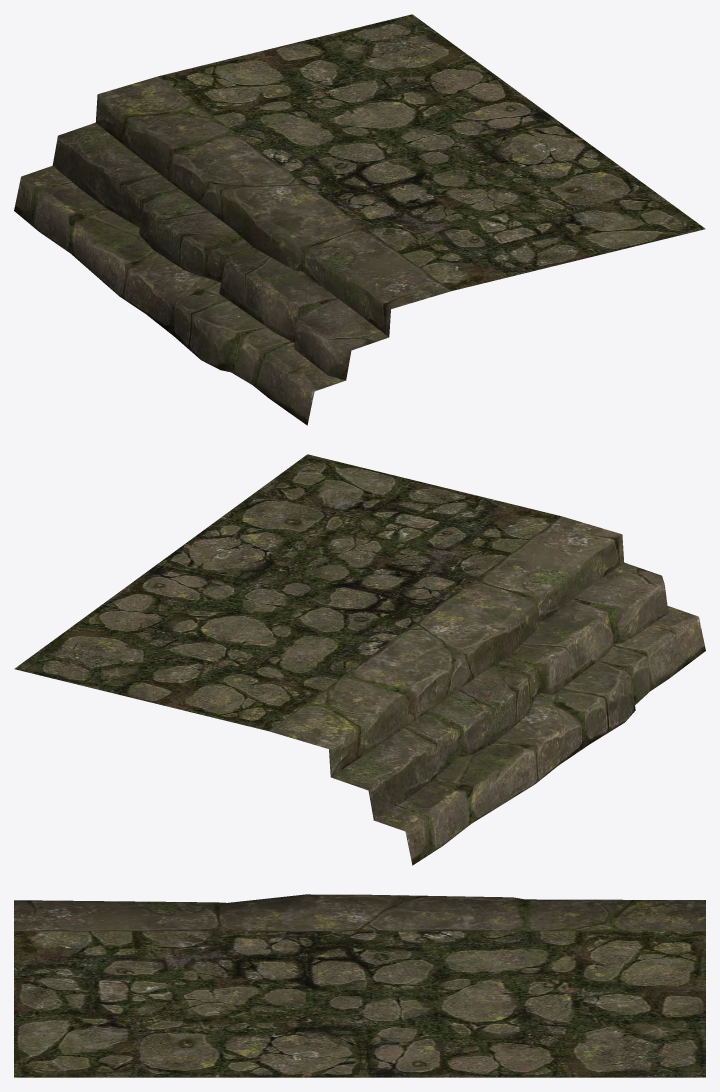
The model's file is Plaza_Stair_02-transformed.glb.
3 views of the same model, one above another, from view 1: azimuth 30°, elevation 25°; view 2: azimuth 150°, elevation 25°; view 3: azimuth 270°, elevation 25° (orthographic). The views are drawn at different scales.
Parts seen in each view (by area): view 1: default; view 2: default; view 3: default.
Part boxes in pixels (left/top/right/bottom): default: left=14, top=14, right=705, bottom=425; default: left=14, top=454, right=705, bottom=865; default: left=14, top=894, right=705, bottom=1077.
Bounding box in the file's own units: 4.85 × 1.12 × 6.
Materials: 2 (2 with a texture image).
